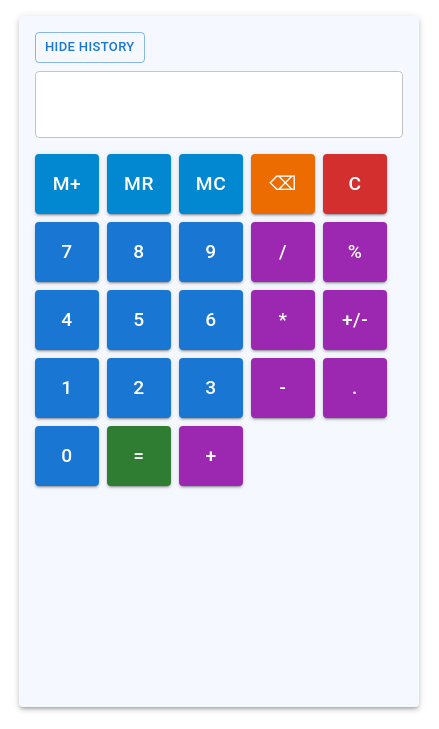
Scenario: Calculator › calculates percentage correctly
The width and height of the screenshot is (439, 729).
Click the button "5". click: (139, 320)
box: [107,290,171,350]
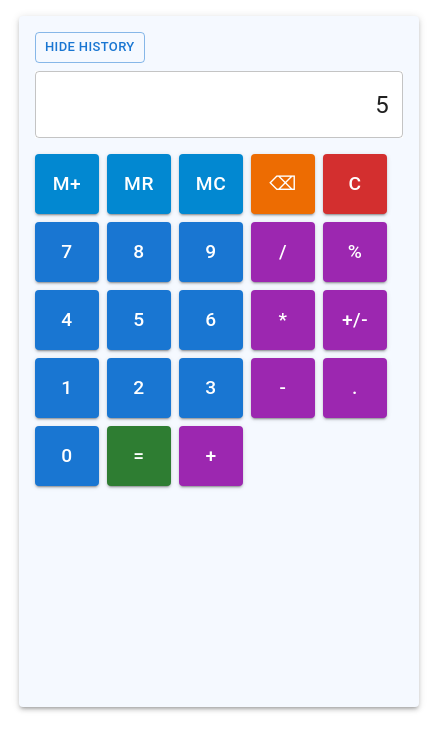
Click the button "0". click: (67, 456)
box: [35,426,99,486]
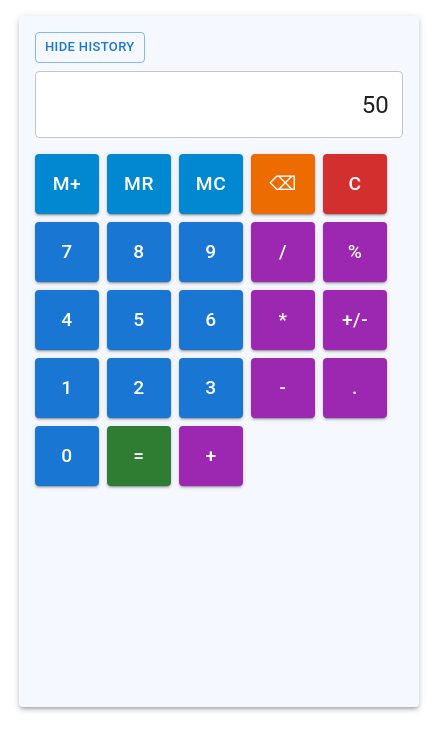
Click the button "%". click: (355, 252)
box: [323,222,387,282]
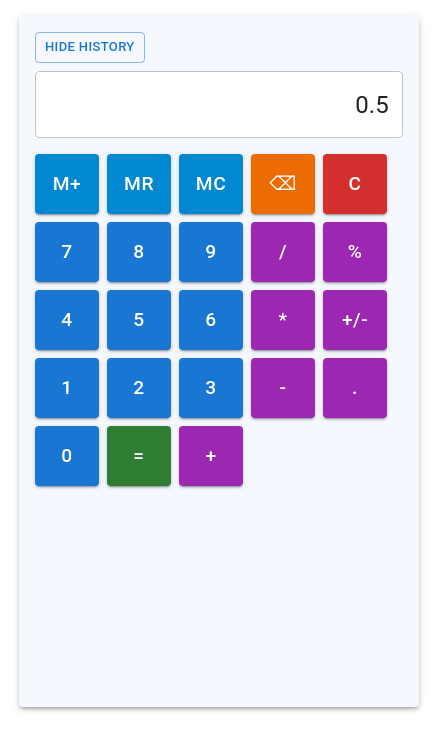
Check: the field showing "0.5" is shown, box [35,71,403,138]
